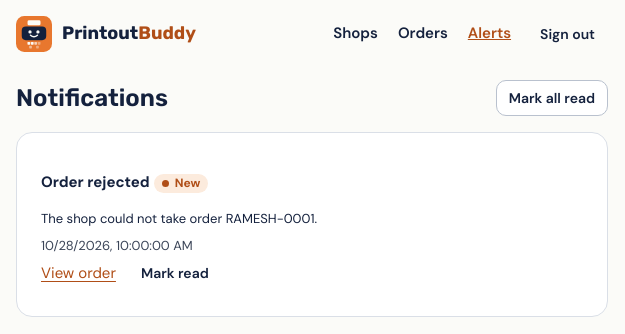
Test case: notifications › shows unread items and marks them read
Expected: the text "Order rejected" is shown, 41,172 -> 150,192
Click the button "Mark read": (175, 274) 128,256 -> 222,292
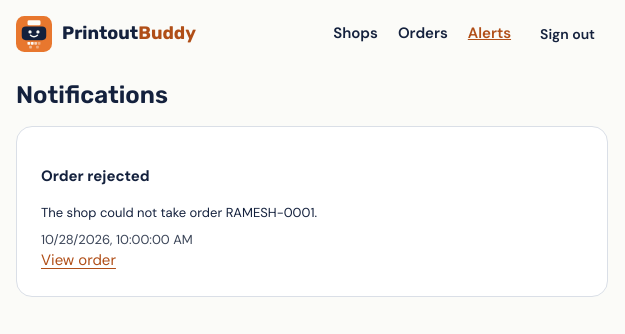
Expected: the button "Mark read" is gone
